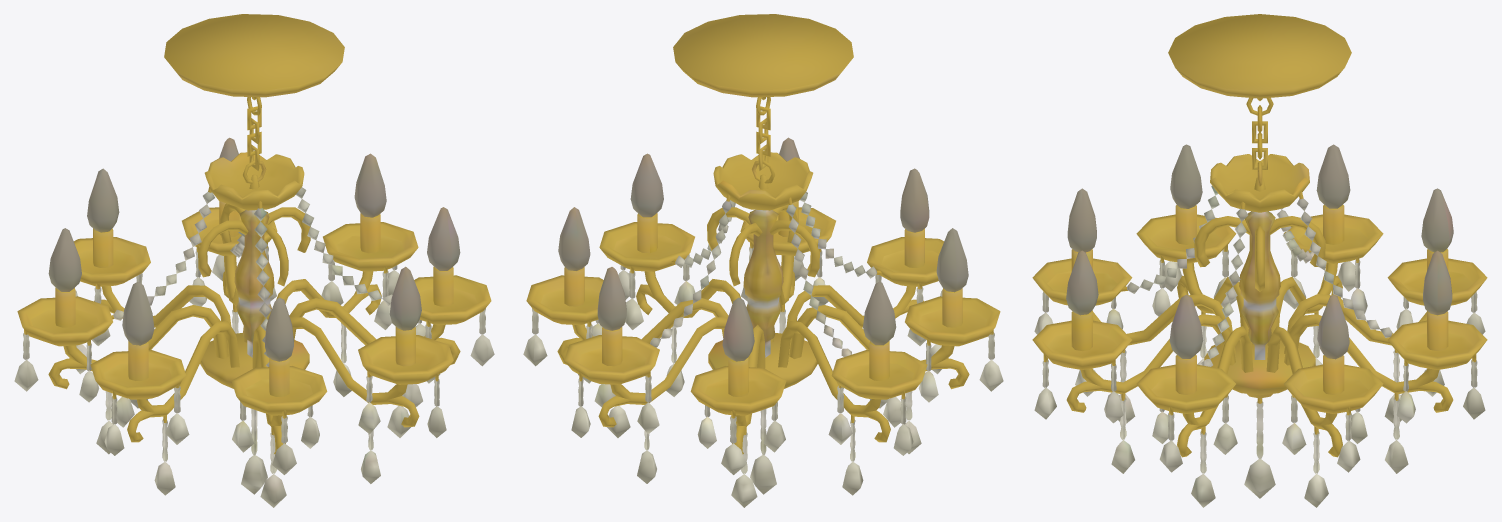
3 renders of one model, left to right at view 1: azimuth 30°, elevation 25°; view 2: azimuth 150°, elevation 25°; view 3: azimuth 270°, elevation 25°, orthographic.
Bounding box in the file's own units: 15.84 × 17.12 × 15.84.
1 material, 1 textured.
